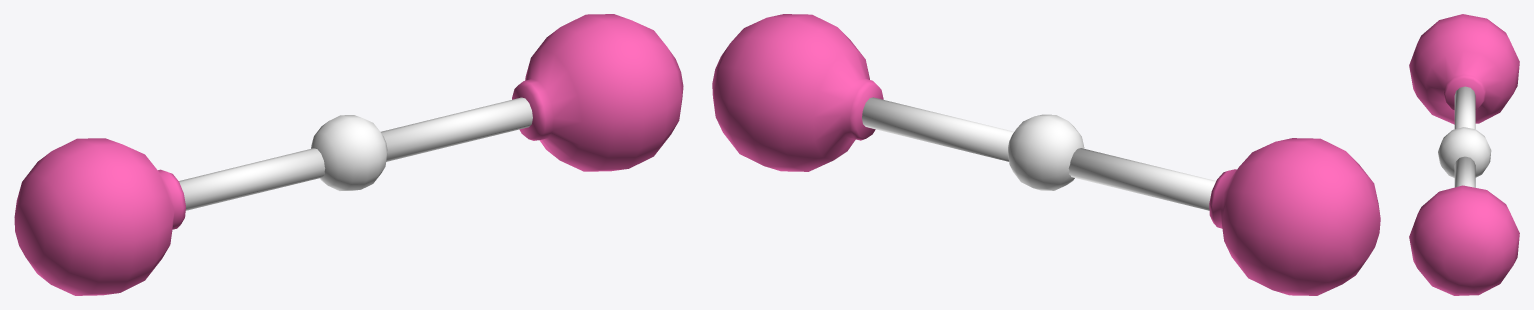
Rendered from diff_1.2.fbx.
3 views of the same model, side by side, from view 1: azimuth 30°, elevation 25°; view 2: azimuth 150°, elevation 25°; view 3: azimuth 270°, elevation 25° (orthographic). The views are drawn at different scales.
Parts seen in each view (by area): view 1: Cylinder.001; view 2: Cylinder.001; view 3: Cylinder.001.
Boxes of the visible parts, bbox=[...] form: Cylinder.001: bbox=[14, 14, 683, 295]; Cylinder.001: bbox=[712, 14, 1380, 295]; Cylinder.001: bbox=[1409, 14, 1519, 295].
Size of the model in its own units: 1116 by 242 by 243.
